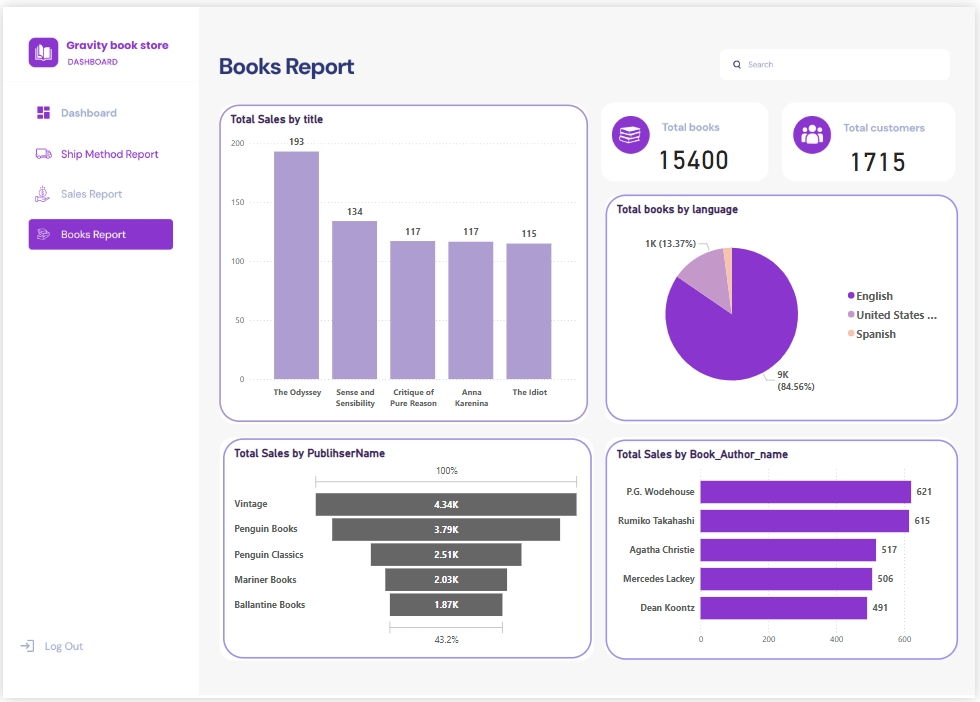

The page's visual inventory and layout, read from the dashboard file:
{"tool":"powerbi","page":{"name":" Books","canvas":[1440,1024],"ordinal":3},"visuals":[{"type":"card","fields":{"Values":["Factsales.Total Books Sold"]},"box":[960,192,126,62],"z":0},{"type":"card","fields":{"Values":["Factsales.Total Customers"]},"box":[1242,194,106,62],"z":1000},{"type":"clusteredColumnChart","fields":{"Category":["DimBooks.title"],"Y":["Factsales.Total Sales"]},"box":[320,144,546,470],"z":2000},{"type":"pieChart","fields":{"Category":["DimBooks.language"],"Y":["DimCustomers.Total books"]},"box":[892,278,522,336],"z":3000},{"type":"funnel","fields":{"Category":["DimBooks.PublihserName"],"Y":["Factsales.Total Sales"]},"box":[326,638,546,326],"z":4000},{"type":"barChart","fields":{"Category":["DimBooks.Book_Author_name"],"Y":["Factsales.Total Sales"]},"box":[892,640,522,326],"z":5000},{"type":"actionButton","box":[33.3,254.9,219.6,47.1],"z":6000},{"type":"actionButton","box":[33.3,194.1,219.6,47.1],"z":7000},{"type":"actionButton","box":[33.3,133.3,219.6,47.1],"z":8000}]}

Visuals, with their boxes in screenshot pixels (x1, y1, x2, y2):
card - Factsales.Total Books Sold: 649/137/734/178
card - Factsales.Total Customers: 839/138/910/179
clusteredColumnChart - DimBooks.title x Factsales.Total Sales: 220/104/586/420
pieChart - DimBooks.language x DimCustomers.Total books: 604/194/954/420
funnel - DimBooks.PublihserName x Factsales.Total Sales: 224/436/590/655
barChart - DimBooks.Book_Author_name x Factsales.Total Sales: 604/437/954/656
actionButton: 27/179/175/210
actionButton: 27/138/175/170
actionButton: 27/97/175/129
